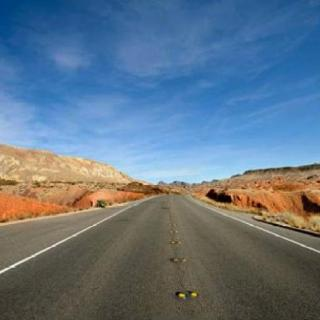Cirrostratus: (0, 0, 320, 158)
